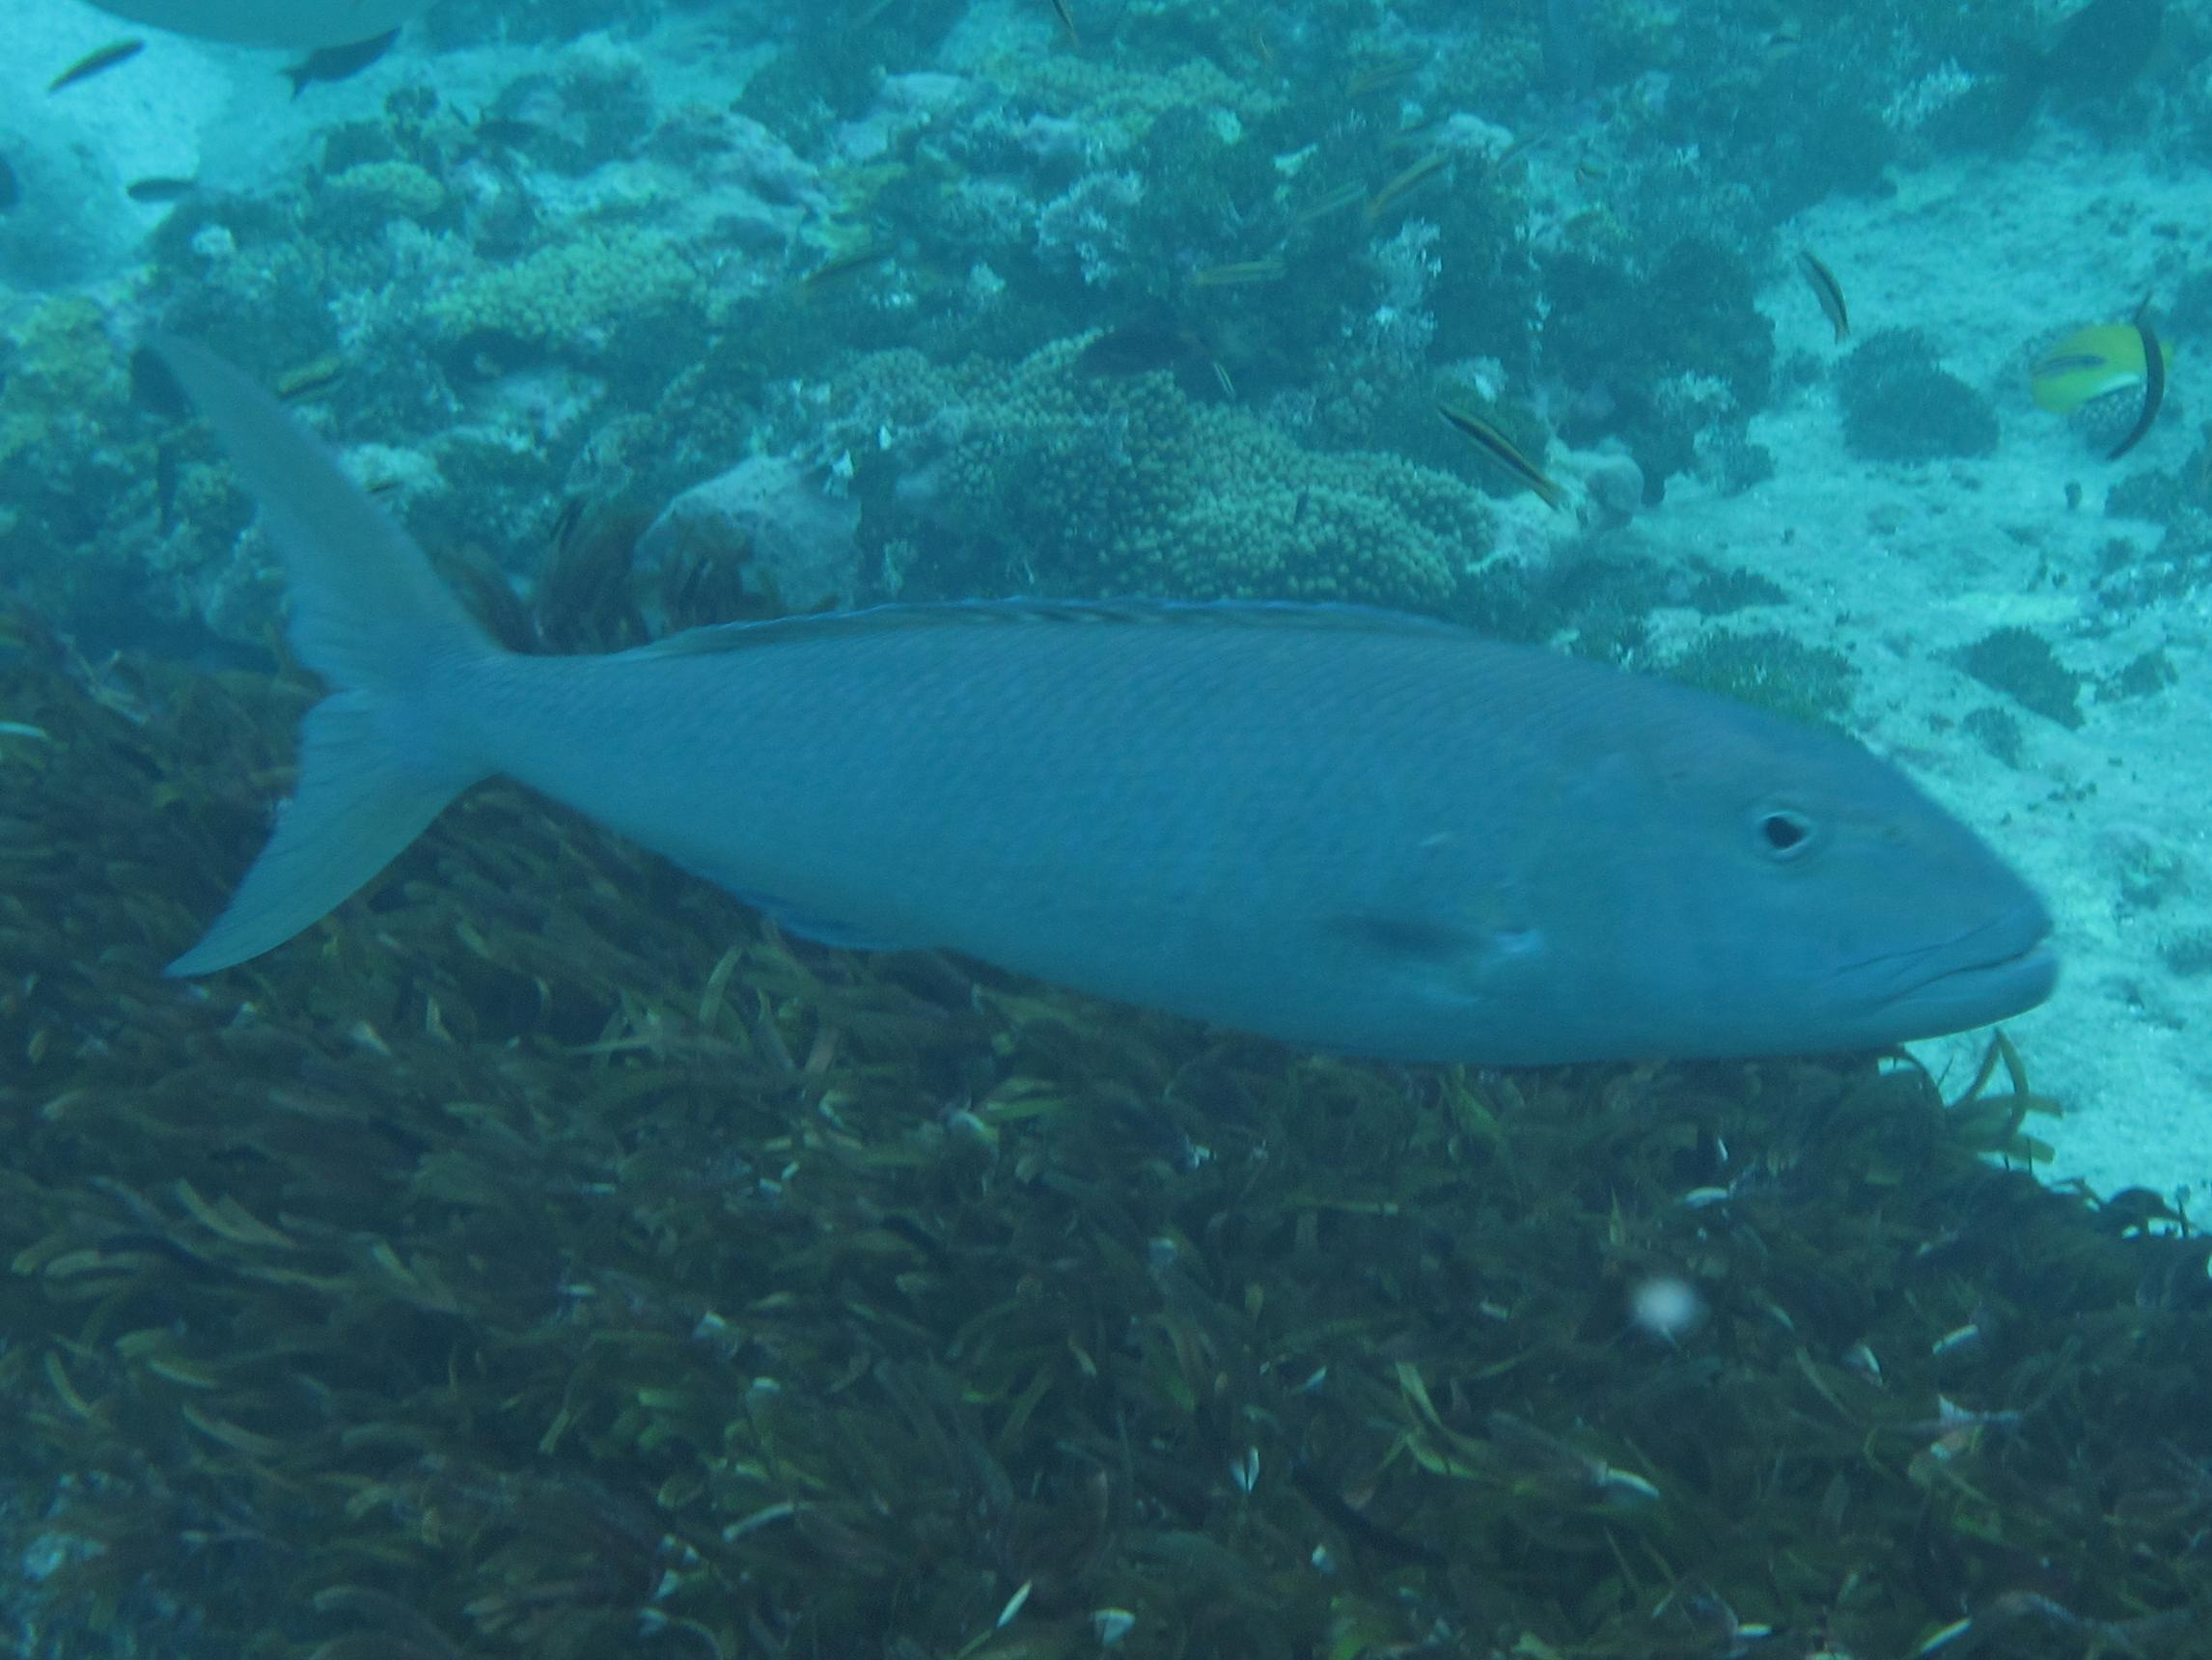Fish: (105, 300, 2078, 1093)
